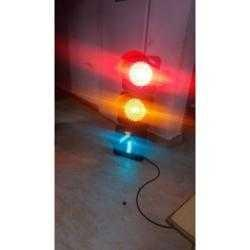green: (115, 129, 148, 162)
red: (119, 46, 159, 92)
